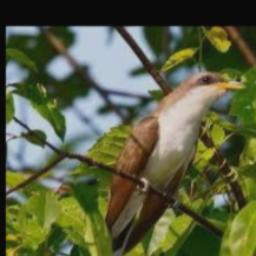Cuckoo: (74, 71, 245, 256)
